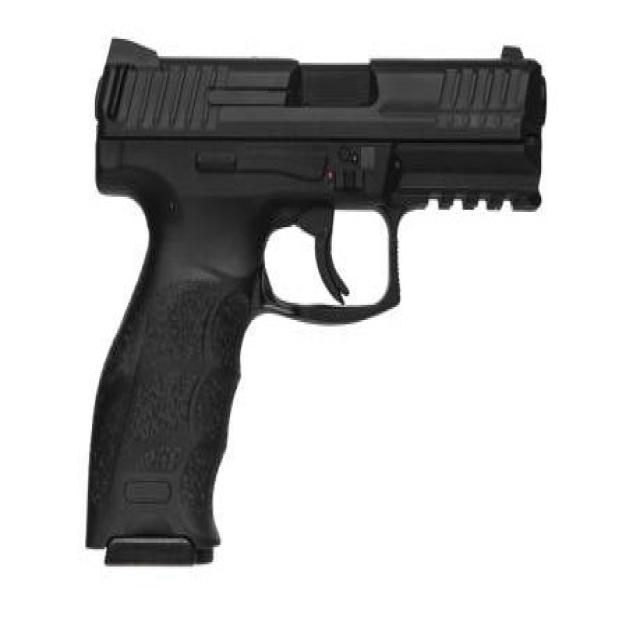pistol: (73, 28, 557, 578)
